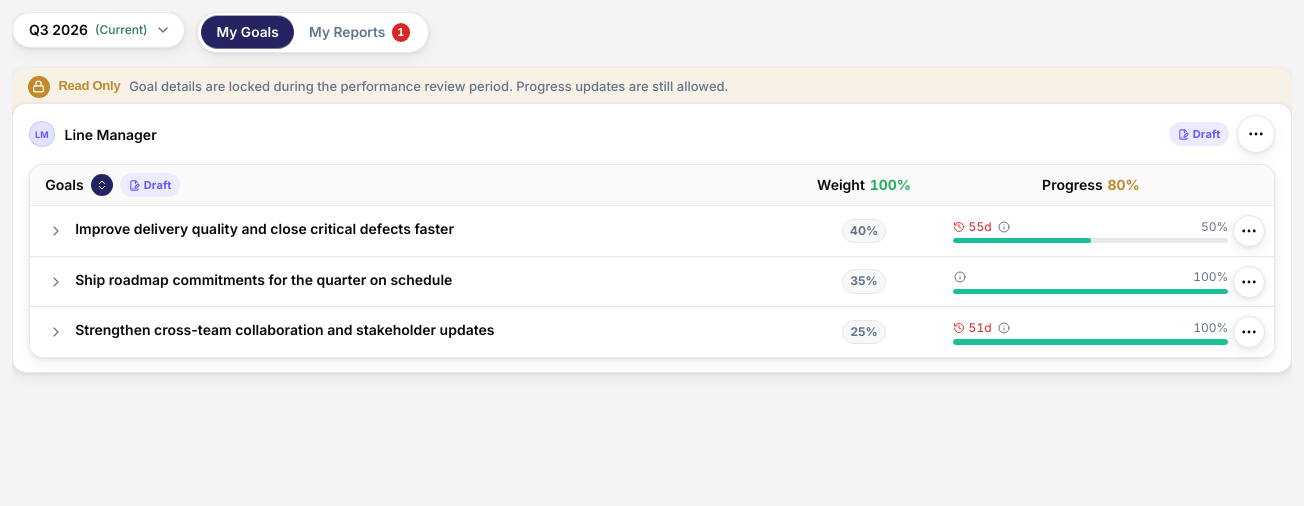
Scenario: GoalsPersonDetail manager review › filters My Reports by search query
Click the button "My Reports 1".
click(360, 32)  # box [294,16,425,49]
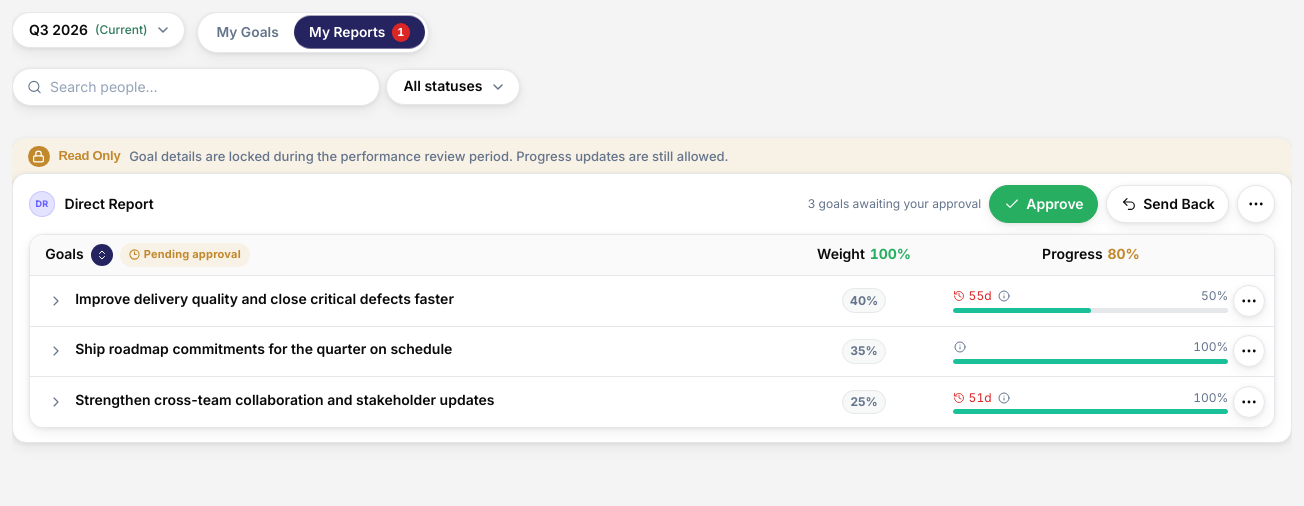
Result: the element named "Direct Report goals" is shown at [12,173,1292,443]
Result: the button with aria-label "Status: All statuses" is shown at [386,69,520,105]
Type "zzzz-no-match" into the search field named "Search reports".
click(207, 87); type("zzzz-no-match")  # box [48,75,365,98]
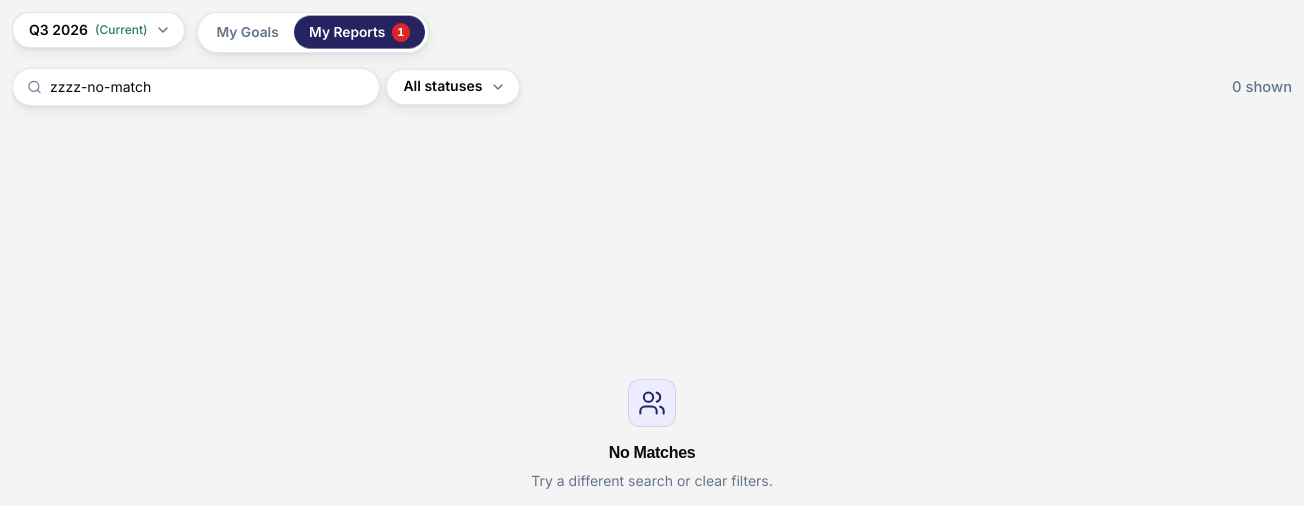
Result: the heading "No Matches" is shown at [609,441,695,465]
Result: the text "0 shown" is shown at [1232,76,1292,98]
Replace the text in the search field named "Search reports" with "Direct" at (207, 87), box [48,75,365,98]
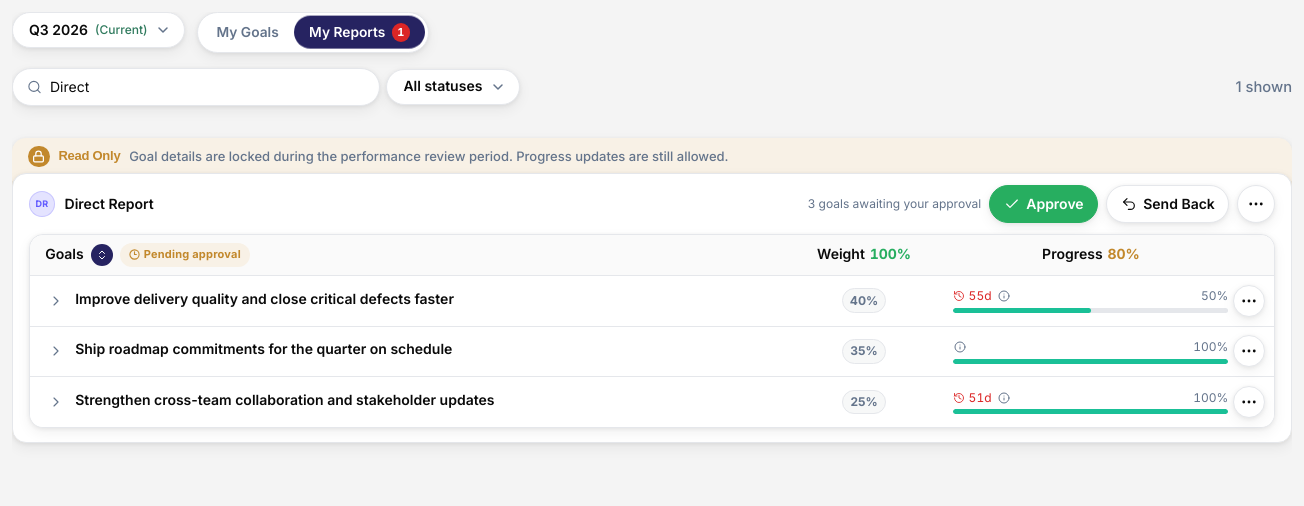
Result: the element named "Direct Report goals" is shown at [12,173,1292,443]
Result: the text "1 shown" is shown at [1236,76,1292,98]
